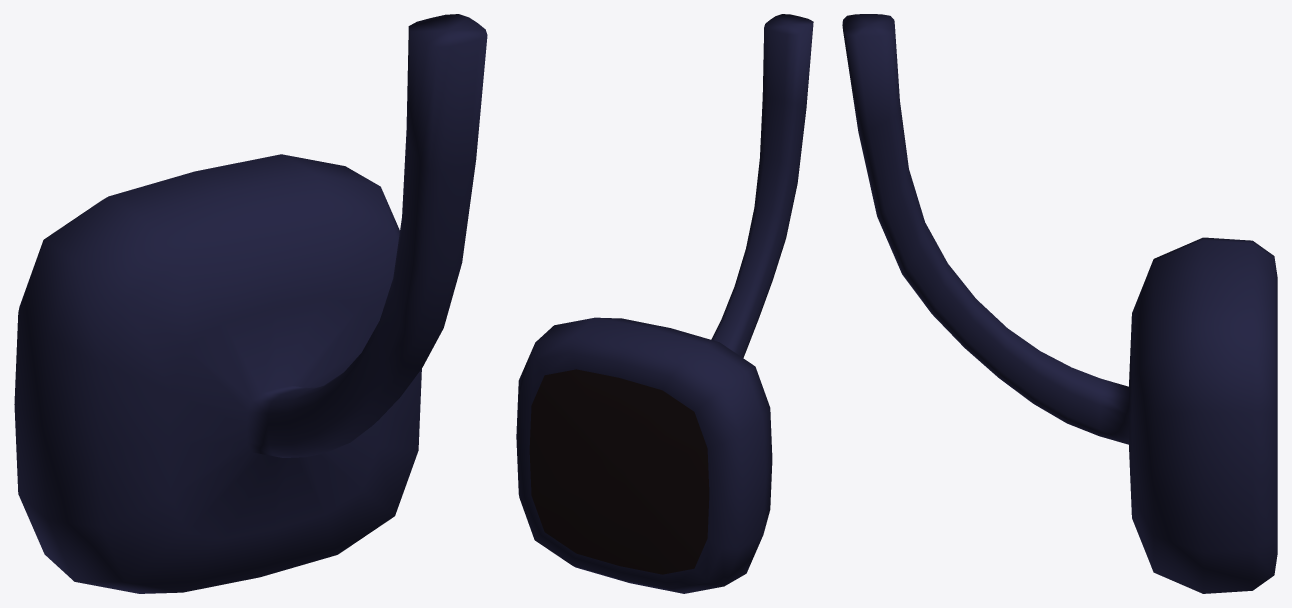
Rendered from main-screen.fbx.
3 views of the same model, side by side, from view 1: azimuth 30°, elevation 25°; view 2: azimuth 150°, elevation 25°; view 3: azimuth 270°, elevation 25° (orthographic). The views are drawn at different scales.
Parts seen in each view (by area): view 1: main-screen; view 2: main-screen; view 3: main-screen.
Boxes of the visible parts, x1,y1,x2,y2 form: main-screen: (14, 14, 487, 593); main-screen: (516, 14, 813, 593); main-screen: (842, 14, 1277, 593).
Bounding box in the file's own units: 196 × 360 × 264.
